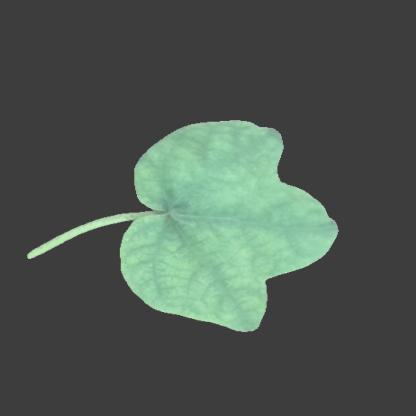curl_stage1: (161, 141, 257, 203), (137, 222, 203, 312), (206, 213, 253, 326), (255, 191, 314, 257)
